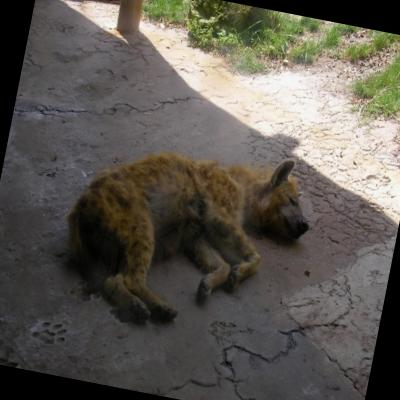hyenas: (12, 105, 342, 384)
